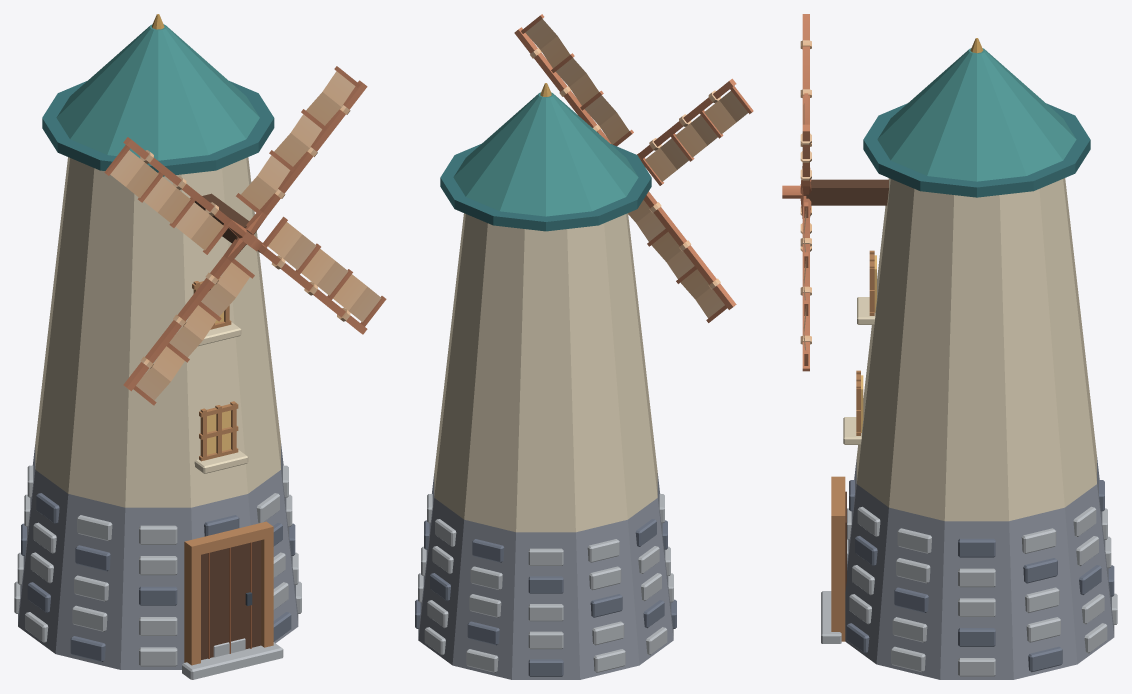
Rendered from windmill.glb.
3 renders of one model, left to right at view 1: azimuth 30°, elevation 25°; view 2: azimuth 150°, elevation 25°; view 3: azimuth 270°, elevation 25°, orthographic. The views are drawn at different scales.
Visible parts, largest first — view 1: windmill_建筑共用调色板, blades; view 2: windmill_建筑共用调色板, blades; view 3: windmill_建筑共用调色板, blades.
Boxes of the visible parts, box(x1,y1,x2,y2) form: windmill_建筑共用调色板: box(14, 14, 301, 679); blades: box(104, 66, 386, 405); windmill_建筑共用调色板: box(415, 83, 676, 679); blades: box(514, 14, 753, 322); windmill_建筑共用调色板: box(806, 38, 1117, 679); blades: box(782, 14, 811, 371).
Size of the model in its own units: 4.55 by 9.24 by 4.81.
2 materials, 2 textured.
